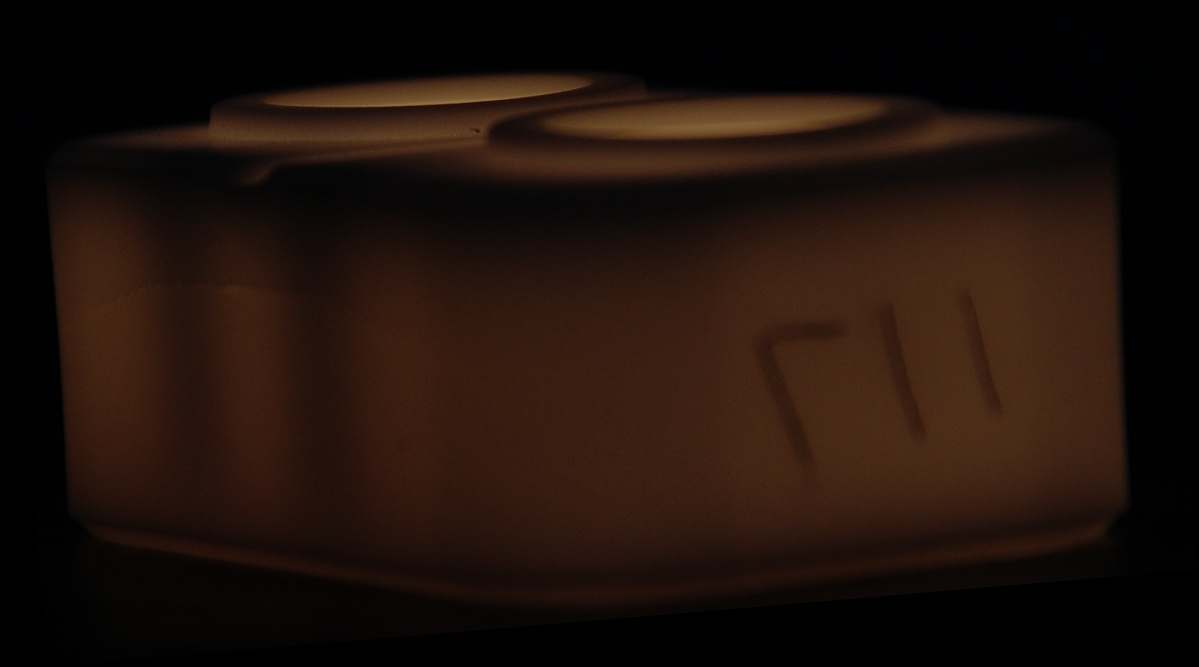flaw: (61, 258, 418, 345)
protrusion: (465, 118, 485, 137)
